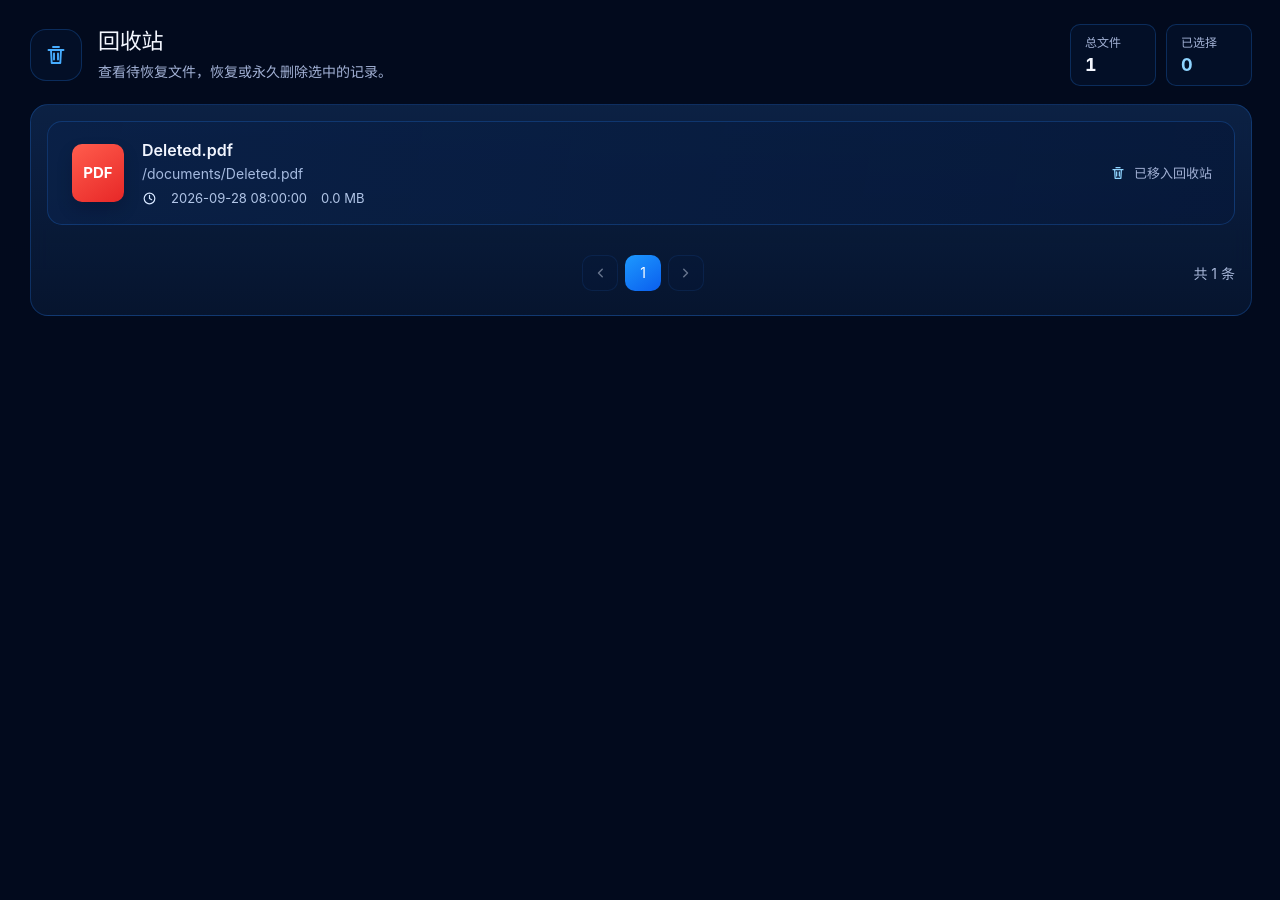
Test: RecyclePage › restores selected recycle items
Press the mouse on the text "Deleted.pdf" at (641, 173), box [47, 121, 1235, 225]
Wait 800 ms
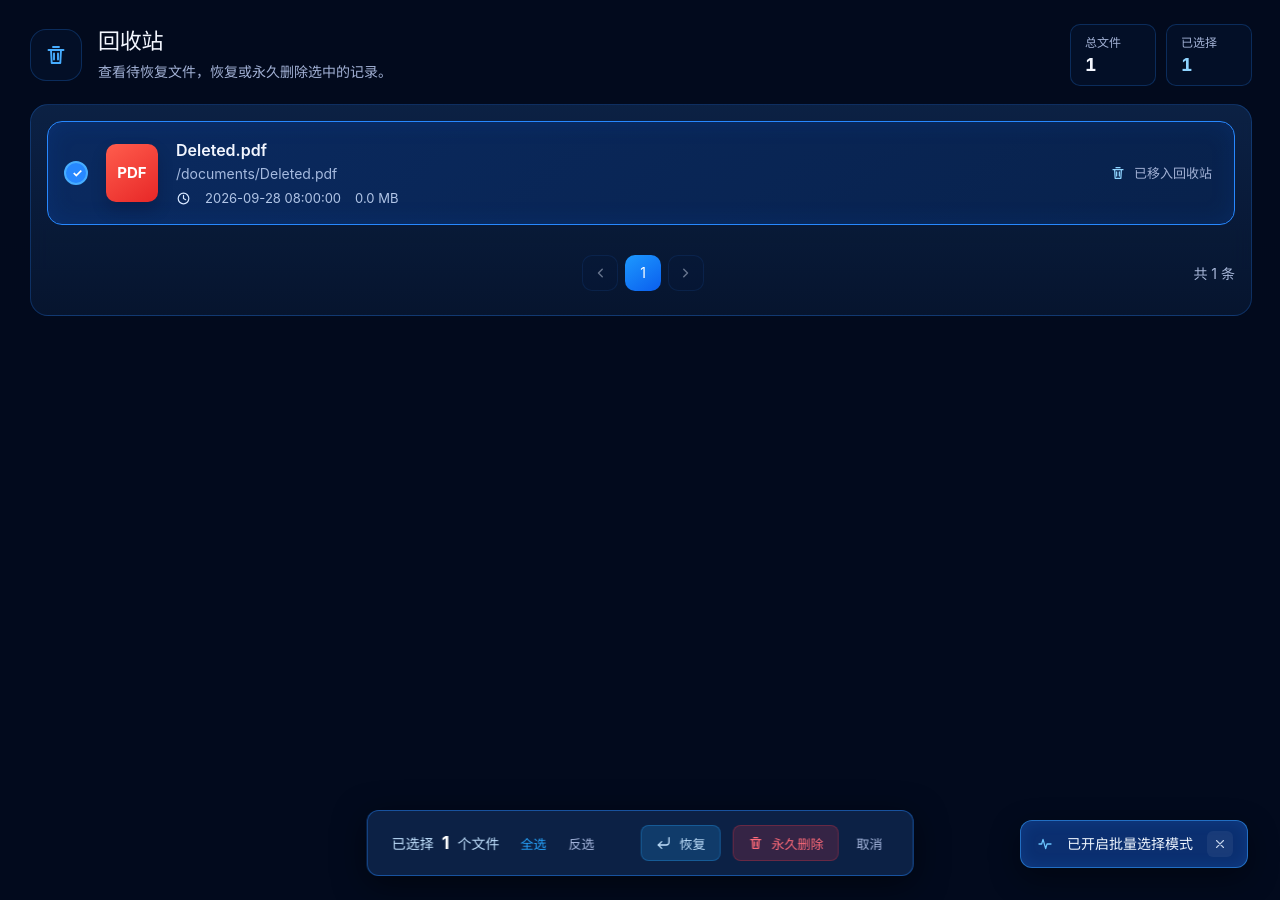
Click the button "恢复" at (680, 843), box [640, 825, 720, 861]
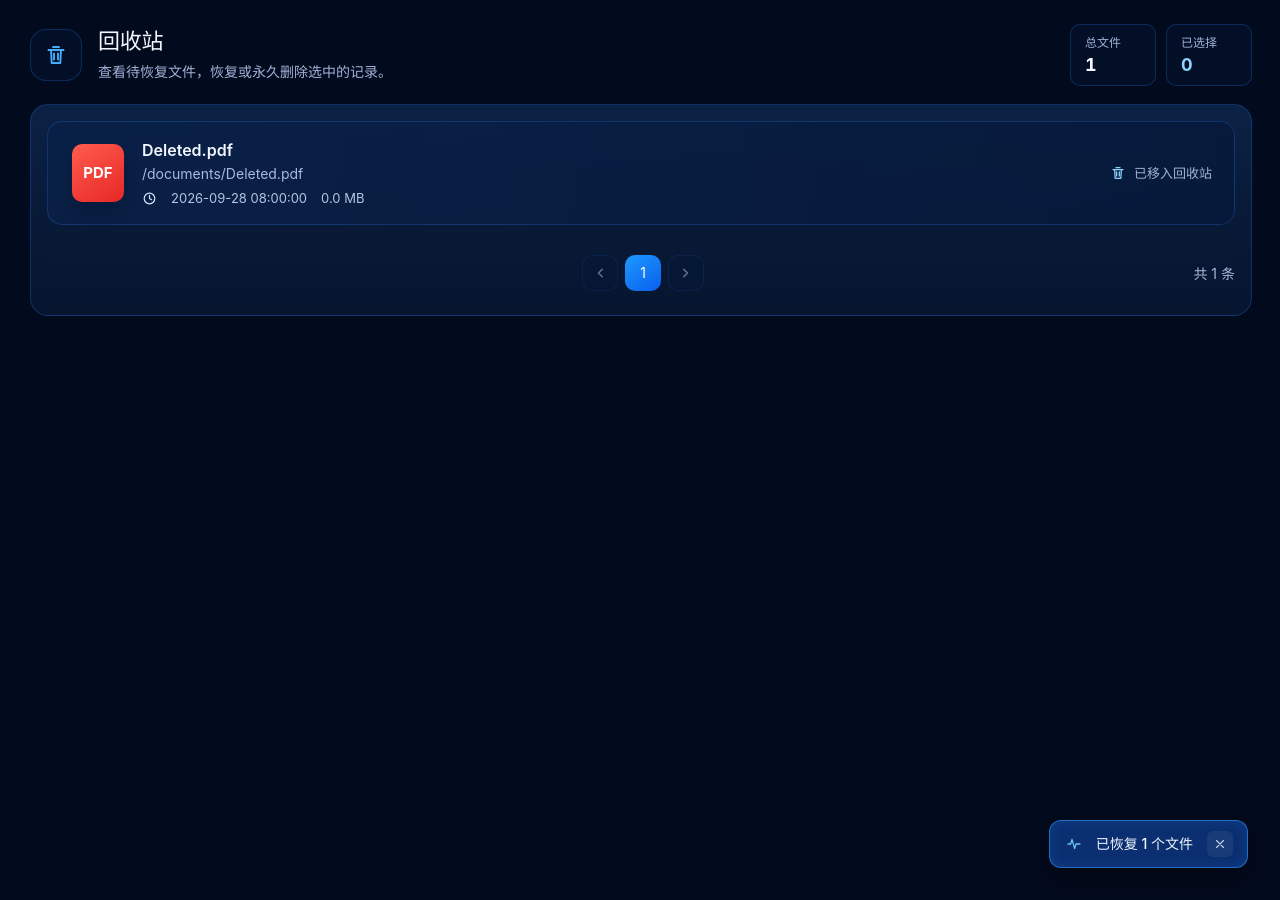
Expected: the text "已恢复 1 个文件" is shown, [1096, 834, 1193, 854]
